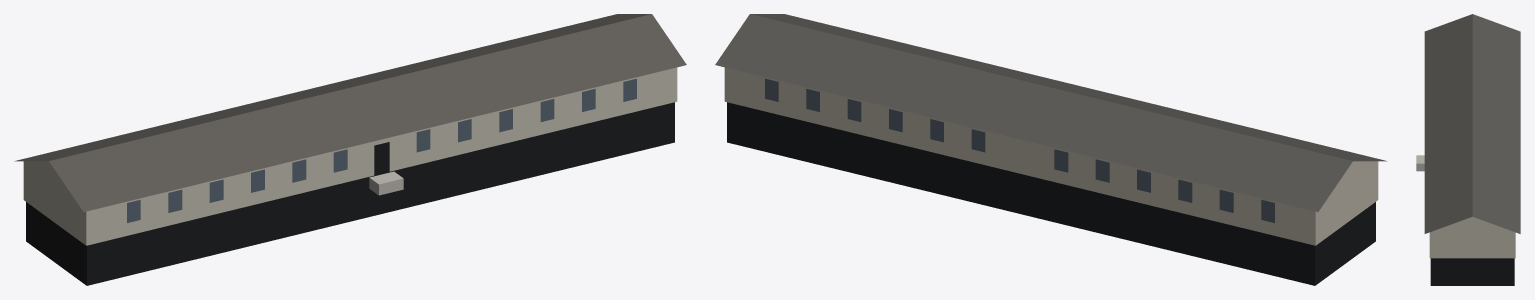
The model's file is lru-temporary-1961-2.glb.
3 renders of one model, left to right at view 1: azimuth 30°, elevation 25°; view 2: azimuth 150°, elevation 25°; view 3: azimuth 270°, elevation 25°, orthographic. The views are drawn at different scales.
Visible parts, largest first — view 1: lru_temporary_1961_2; view 2: lru_temporary_1961_2; view 3: lru_temporary_1961_2.
Boxes of the visible parts, x1,y1,x2,y2 form: lru_temporary_1961_2: (14,14,686,285); lru_temporary_1961_2: (715,14,1387,285); lru_temporary_1961_2: (1416,14,1520,285).
Size of the model in its own units: 43.76 by 7.23 by 9.5.
